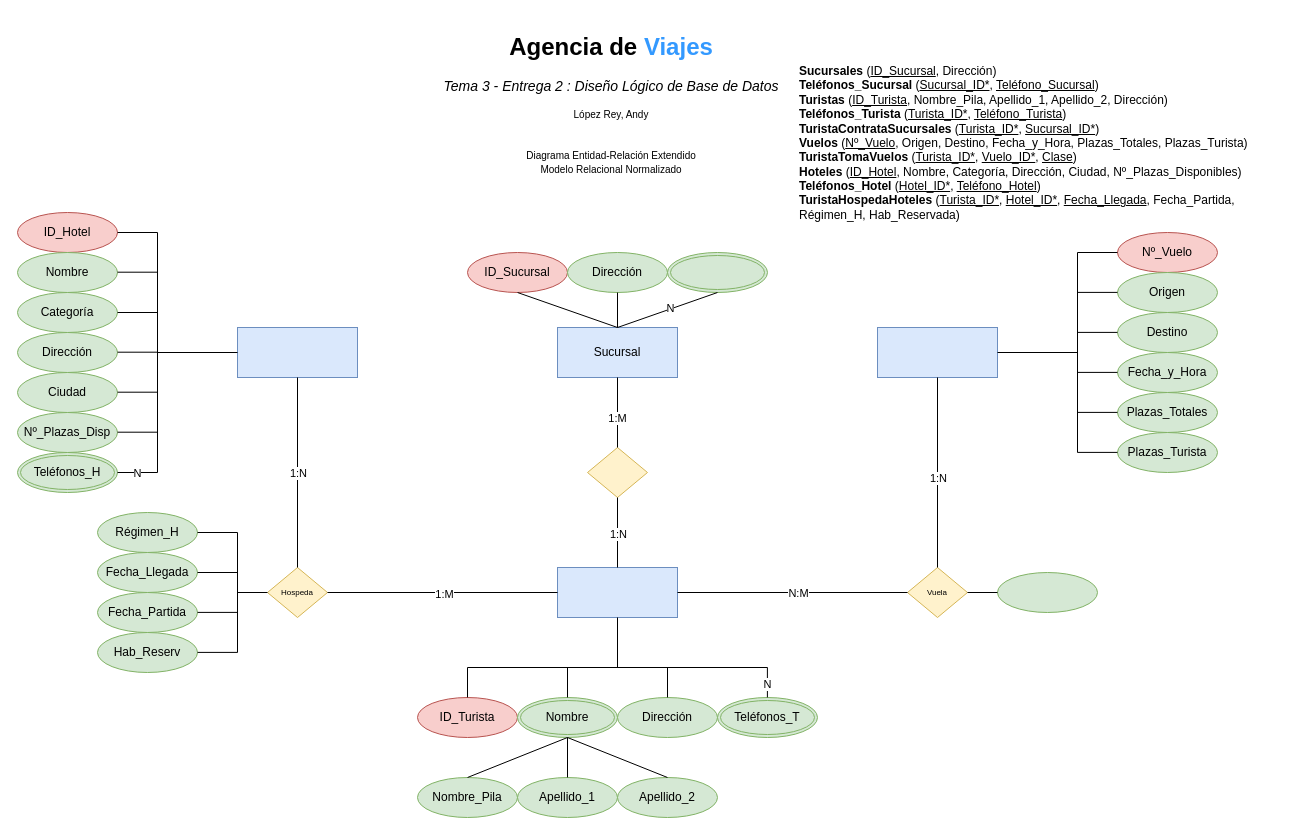
Image size: 1305x835. Some labels were removed from this diagram. The box of each missing label's shape, as (x1, y1, x2, y2) in pixels:
Clase: (996, 572, 1098, 612)
Contrata: (586, 446, 648, 498)
Hotel: (236, 326, 358, 378)
Teléfonos_S: (666, 252, 768, 292)
Turista: (556, 566, 678, 618)
Vuelo: (876, 326, 998, 378)
